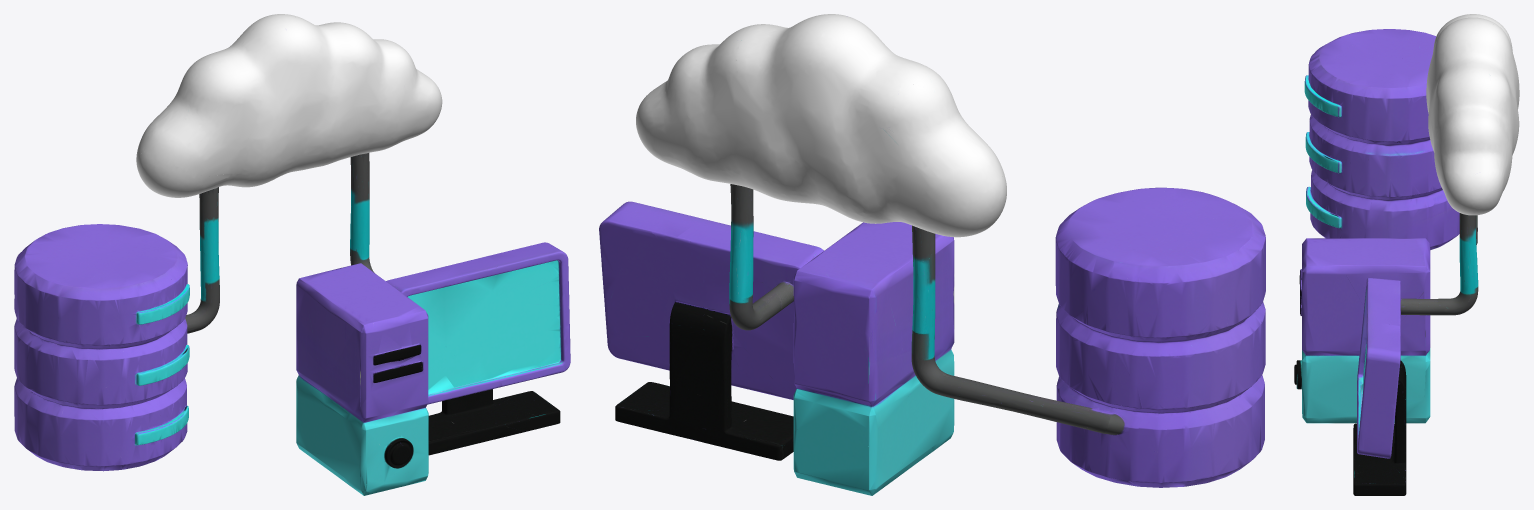
Rendered from cloud.glb.
The picture shows the model from 3 angles, left to right: view 1: azimuth 30°, elevation 25°; view 2: azimuth 150°, elevation 25°; view 3: azimuth 270°, elevation 25°; orthographic projection. The views are drawn at different scales.
Parts seen in each view (by area): view 1: Mesh_0.204; view 2: Mesh_0.204; view 3: Mesh_0.204.
Part boxes in pixels (x1=…): Mesh_0.204: x1=14, y1=14, x2=570, y2=495; Mesh_0.204: x1=599, y1=14, x2=1265, y2=495; Mesh_0.204: x1=1294, y1=14, x2=1519, y2=495.
Size of the model in its own units: 1.9 by 1.4 by 0.7563.
1 material, 1 textured.
